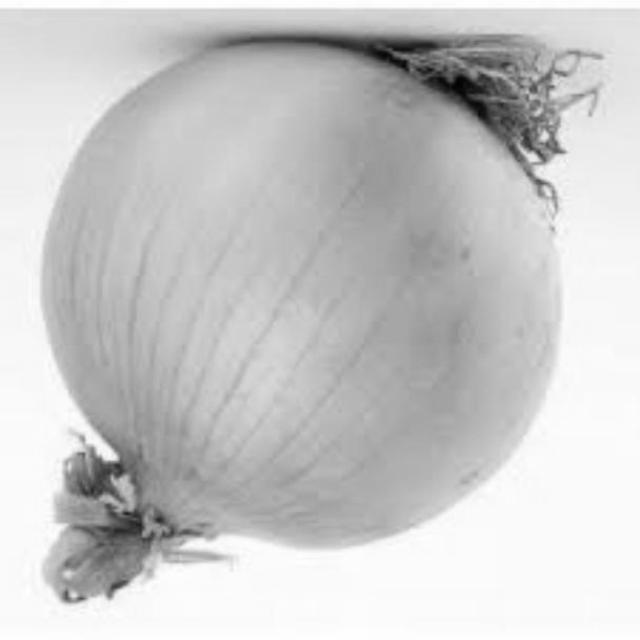cu hanh: (35, 29, 576, 568)
